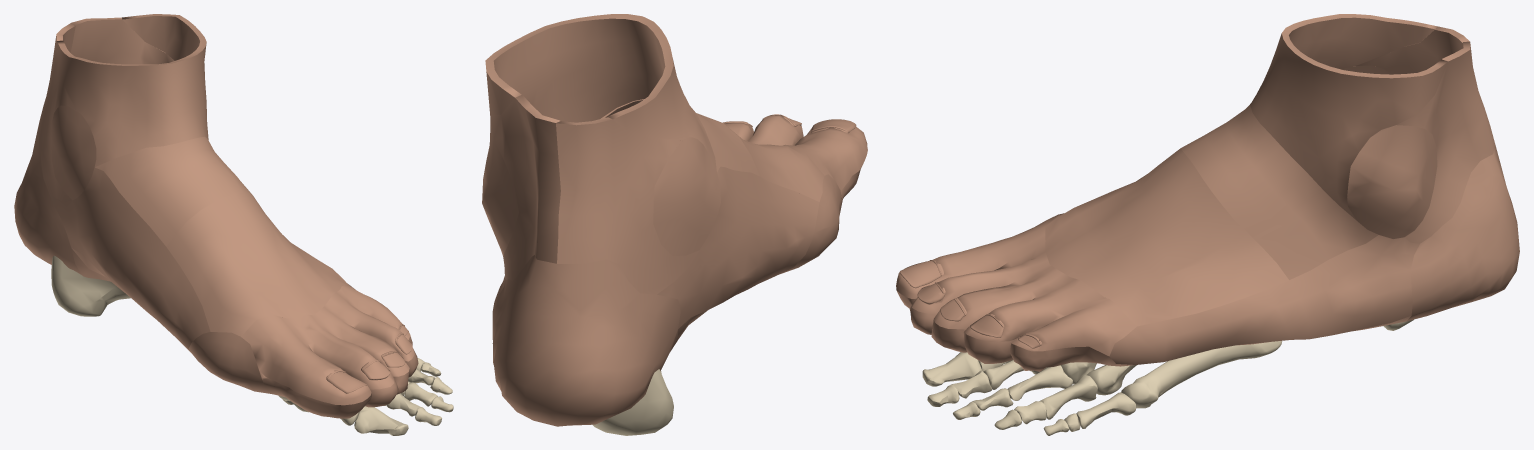
File: foot.glb
The picture shows the model from 3 angles, left to right: view 1: azimuth 30°, elevation 25°; view 2: azimuth 150°, elevation 25°; view 3: azimuth 270°, elevation 25°; orthographic projection. The views are drawn at different scales.
Visible parts, largest first — view 1: real-skin-metatarsal-region-l, real-skin-anterior-region-of-ankle-l, real-skin-dorsal-surfaces-of-digits-of-foot-l, real-skin-medial-border-of-foot-l, real-skin-dorsum-of-foot-l, real-skin-heel-region-l, real-skin-lateral-retromalleolar-region-l, real-skin-medial-malleolus-l, real-skin-hallucial-eminence-l, calcaneus-left, real-skin-medial-retromalleolar-region-l, real-skin-plantar-surfaces-of-digits-of-foot-l (+3 smaller); view 2: real-skin-heel-region-l, real-skin-anterior-region-of-ankle-l, real-skin-medial-retromalleolar-region-l, real-skin-medial-border-of-foot-l, real-skin-lateral-retromalleolar-region-l, real-skin-medial-malleolus-l, real-skin-dorsal-surfaces-of-digits-of-foot-l, real-skin-metatarsal-region-l, real-skin-lateral-malleolus-l, calcaneus-left, real-skin-dorsum-of-foot-l, real-skin-hallucial-eminence-l (+1 smaller); view 3: real-skin-metatarsal-region-l, real-skin-anterior-region-of-ankle-l, real-skin-lateral-border-of-foot-l, real-skin-dorsal-surfaces-of-digits-of-foot-l, real-skin-dorsum-of-foot-l, real-skin-heel-region-l, real-skin-lateral-retromalleolar-region-l, real-skin-lateral-malleolus-l, real-skin-plantar-surfaces-of-digits-of-foot-l, real-left-fifth-metatarsal-bone, real-skin-nail-plate-foot-l, real-skin-medial-retromalleolar-region-l (+7 smaller).
Part boxes in pixels (box(x1,y1,x2,y2)): real-skin-metatarsal-region-l: box(166, 192, 348, 336); real-skin-anterior-region-of-ankle-l: box(56, 14, 208, 166); real-skin-dorsal-surfaces-of-digits-of-foot-l: box(241, 285, 414, 405); real-skin-medial-border-of-foot-l: box(49, 167, 210, 352); real-skin-dorsum-of-foot-l: box(95, 136, 251, 246); real-skin-heel-region-l: box(14, 124, 81, 274); real-skin-lateral-retromalleolar-region-l: box(70, 17, 174, 64); real-skin-medial-malleolus-l: box(51, 105, 96, 200); real-skin-hallucial-eminence-l: box(189, 332, 270, 393); calcaneus-left: box(51, 255, 130, 316); real-skin-medial-retromalleolar-region-l: box(38, 23, 76, 201); real-skin-plantar-surfaces-of-digits-of-foot-l: box(259, 336, 418, 418); real-skin-heel-region-l: box(492, 255, 680, 426); real-skin-anterior-region-of-ankle-l: box(485, 14, 716, 171); real-skin-medial-retromalleolar-region-l: box(556, 117, 699, 294); real-skin-medial-border-of-foot-l: box(657, 166, 819, 328); real-skin-lateral-retromalleolar-region-l: box(490, 94, 560, 280); real-skin-medial-malleolus-l: box(653, 137, 720, 255); real-skin-dorsal-surfaces-of-digits-of-foot-l: box(724, 114, 867, 190); real-skin-metatarsal-region-l: box(728, 127, 824, 201); real-skin-lateral-malleolus-l: box(482, 125, 518, 256); calcaneus-left: box(592, 369, 673, 435); real-skin-dorsum-of-foot-l: box(601, 99, 759, 176); real-skin-hallucial-eminence-l: box(781, 174, 841, 273); real-skin-metatarsal-region-l: box(1045, 148, 1288, 326); real-skin-anterior-region-of-ankle-l: box(1250, 14, 1448, 220); real-skin-lateral-border-of-foot-l: box(1109, 235, 1419, 364); real-skin-dorsal-surfaces-of-digits-of-foot-l: box(896, 220, 1136, 356); real-skin-dorsum-of-foot-l: box(1181, 103, 1378, 279); real-skin-heel-region-l: box(1407, 144, 1519, 321); real-skin-lateral-retromalleolar-region-l: box(1397, 41, 1494, 243); real-skin-lateral-malleolus-l: box(1347, 125, 1437, 238); real-skin-plantar-surfaces-of-digits-of-foot-l: box(897, 291, 1134, 371); real-left-fifth-metatarsal-bone: box(1121, 341, 1282, 408); real-skin-nail-plate-foot-l: box(899, 260, 1041, 348); real-skin-medial-retromalleolar-region-l: box(1356, 26, 1469, 74).
Bounding box in the file's own units: 0.1272 × 0.1408 × 0.2544.
